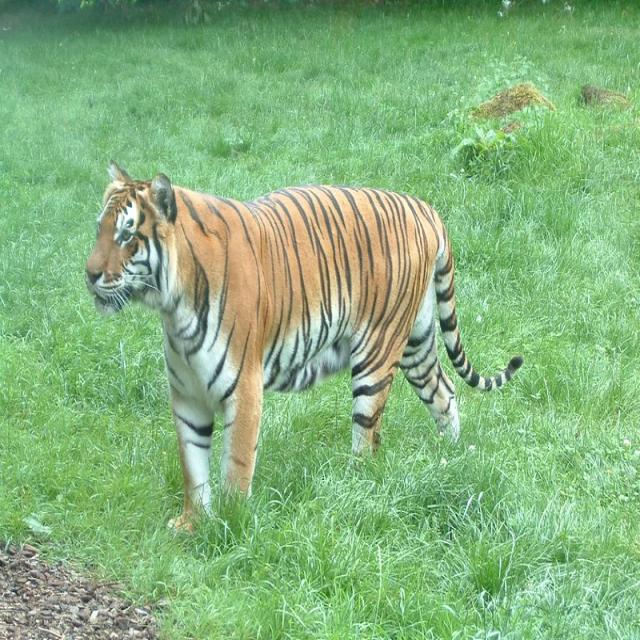Tiger: (82, 153, 522, 534)
